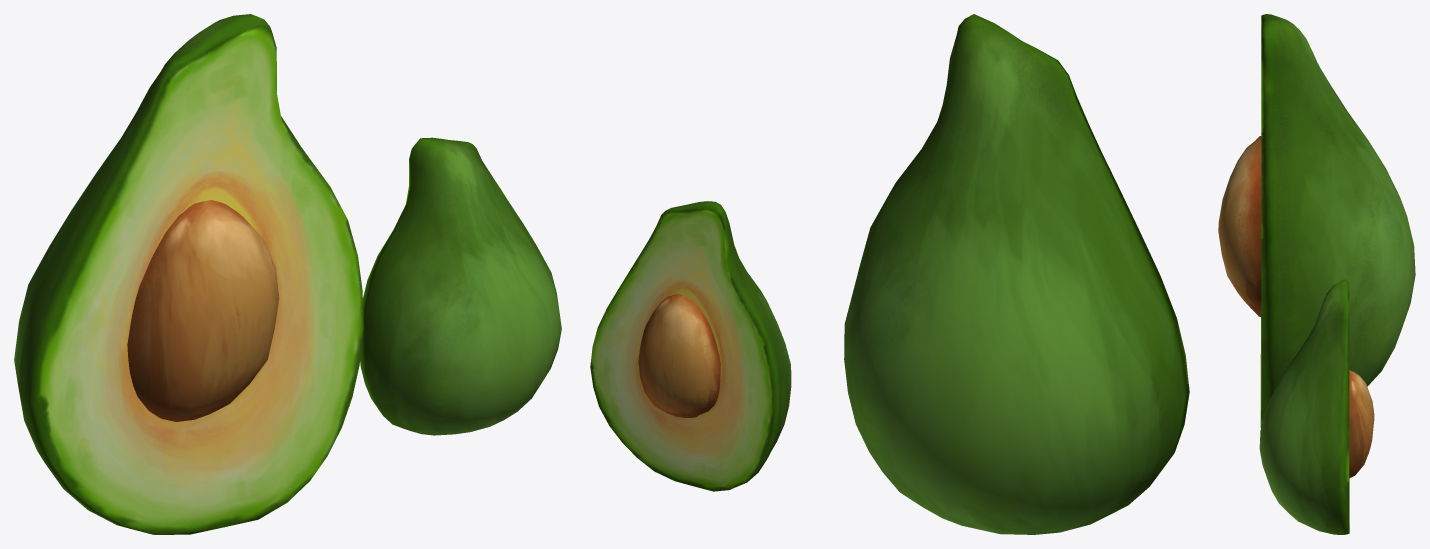
Rendered from Avocado.gltf.
The picture shows the model from 3 angles, left to right: view 1: azimuth 30°, elevation 25°; view 2: azimuth 150°, elevation 25°; view 3: azimuth 270°, elevation 25°; orthographic projection. The views are drawn at different scales.
Visible parts, largest first — view 1: Avocado, Avocado.001; view 2: Avocado, Avocado.001; view 3: Avocado, Avocado.001.
Part boxes in pixels (x1,y1,x2,y2): Avocado: [14, 14, 363, 534]; Avocado.001: [360, 137, 561, 435]; Avocado: [844, 14, 1189, 534]; Avocado.001: [590, 201, 791, 491]; Avocado: [1218, 14, 1415, 427]; Avocado.001: [1259, 279, 1374, 534].
Bounding box in the file's own units: 0.0737 × 0.0629 × 0.0276.
Materials: 1 (1 with a texture image).
